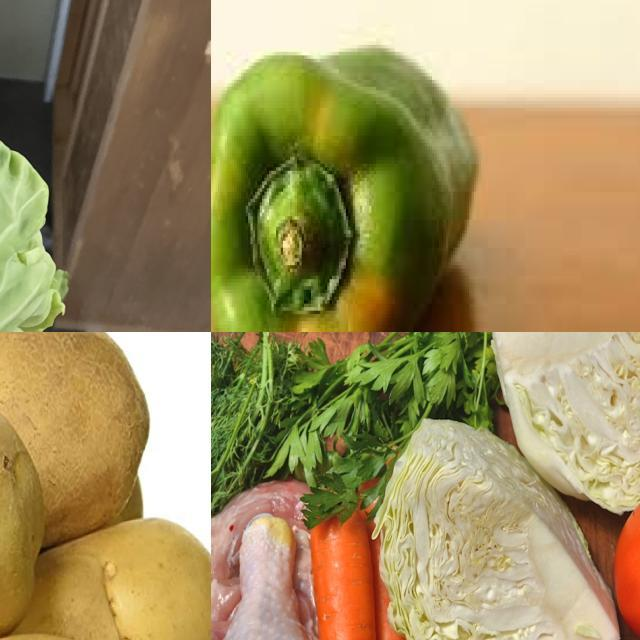bell_pepper: (212, 19, 484, 333)
cabbage: (381, 411, 623, 640), (487, 333, 640, 515), (1, 89, 75, 333)
carrot: (363, 479, 427, 640), (309, 508, 384, 640)
potato: (1, 333, 152, 537), (13, 522, 212, 640)
